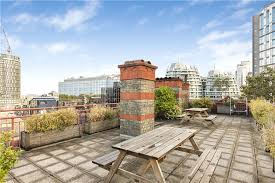obstacle: (91, 125, 222, 182), (176, 105, 220, 129)
